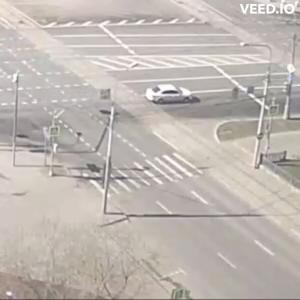car: (147, 84, 200, 106)
